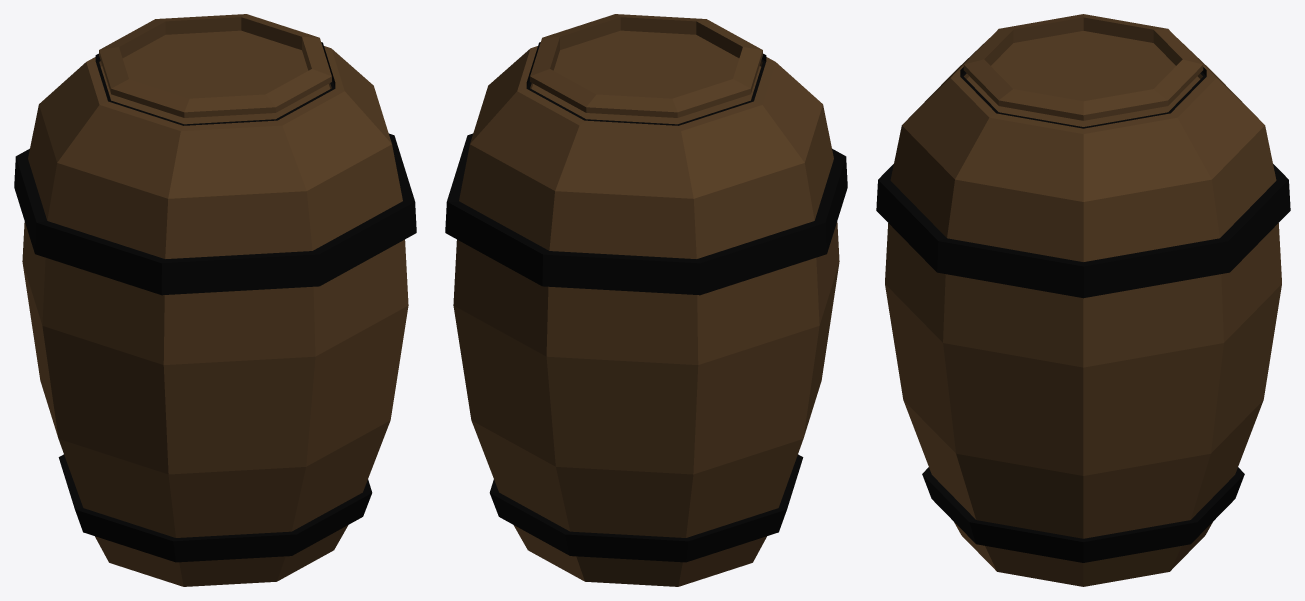
The model's file is brownbarrel.fbx.
3 renders of one model, left to right at view 1: azimuth 30°, elevation 25°; view 2: azimuth 150°, elevation 25°; view 3: azimuth 270°, elevation 25°, orthographic.
Visible parts, largest first — view 1: BrownBarrel; view 2: BrownBarrel; view 3: BrownBarrel.
Boxes of the visible parts, left/top/right/bottom form: BrownBarrel: left=14, top=14, right=416, bottom=586; BrownBarrel: left=445, top=14, right=847, bottom=586; BrownBarrel: left=876, top=14, right=1290, bottom=586.
Bounding box in the file's own units: 52.12 × 66.07 × 52.12.
